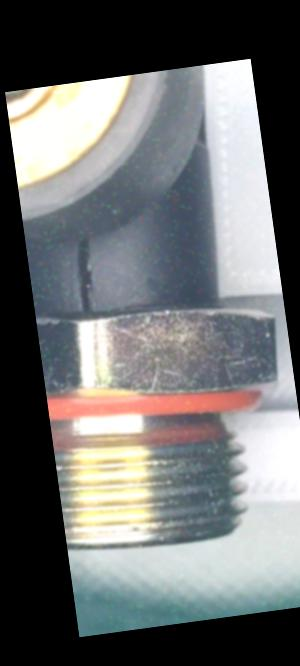craze: (66, 230, 104, 321)
